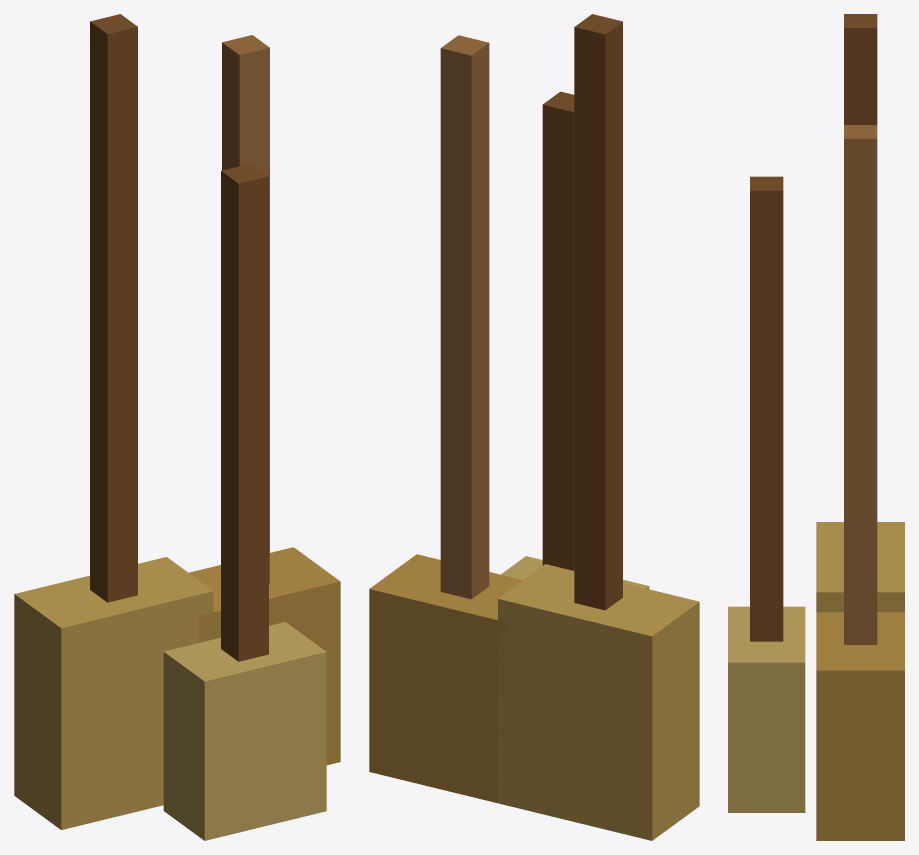
File: cp-brooms.glb
3 views of the same model, side by side, from view 1: azimuth 30°, elevation 25°; view 2: azimuth 150°, elevation 25°; view 3: azimuth 270°, elevation 25° (orthographic). The views are drawn at different scales.
Parts seen in each view (by area): view 1: box-prop; view 2: box-prop; view 3: box-prop.
Boxes of the visible parts, <box> form: box-prop: <box>14,14,340,840</box>; box-prop: <box>369,14,699,840</box>; box-prop: <box>728,14,904,840</box>.
Bounding box in the file's own units: 0.55 × 1.45 × 0.32.
